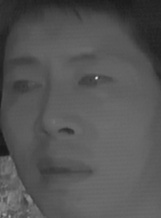eye: (76, 69, 113, 94), (6, 76, 42, 98)
mouth: (34, 154, 92, 188)
